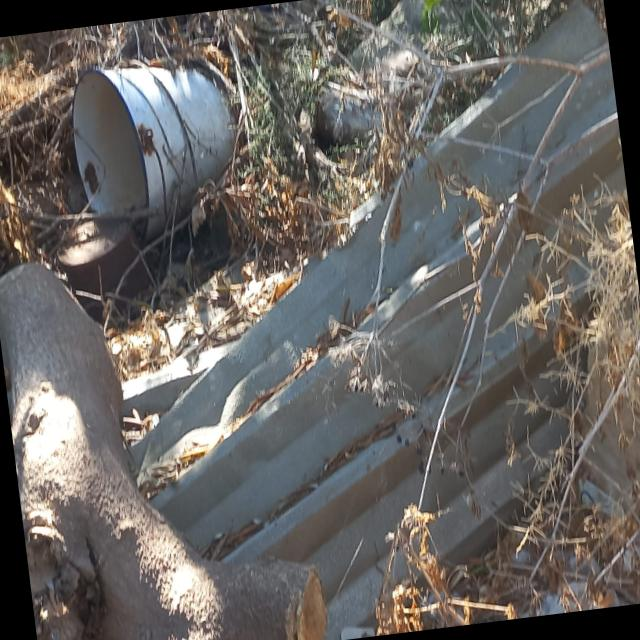Other litter: (113, 0, 632, 640), (61, 61, 239, 306)
